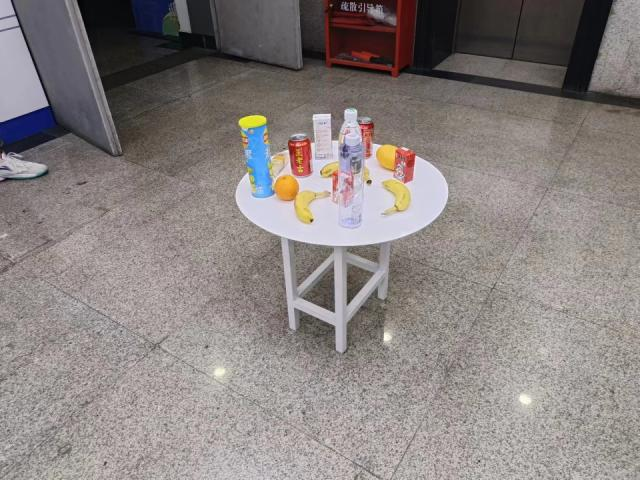Canned_drinks: (288, 134, 315, 178), (354, 116, 374, 159)
bottle: (338, 132, 364, 230), (339, 109, 364, 180)
cylinder: (238, 114, 275, 198)
drink_box: (312, 113, 334, 158), (394, 146, 415, 183), (333, 172, 353, 207)
